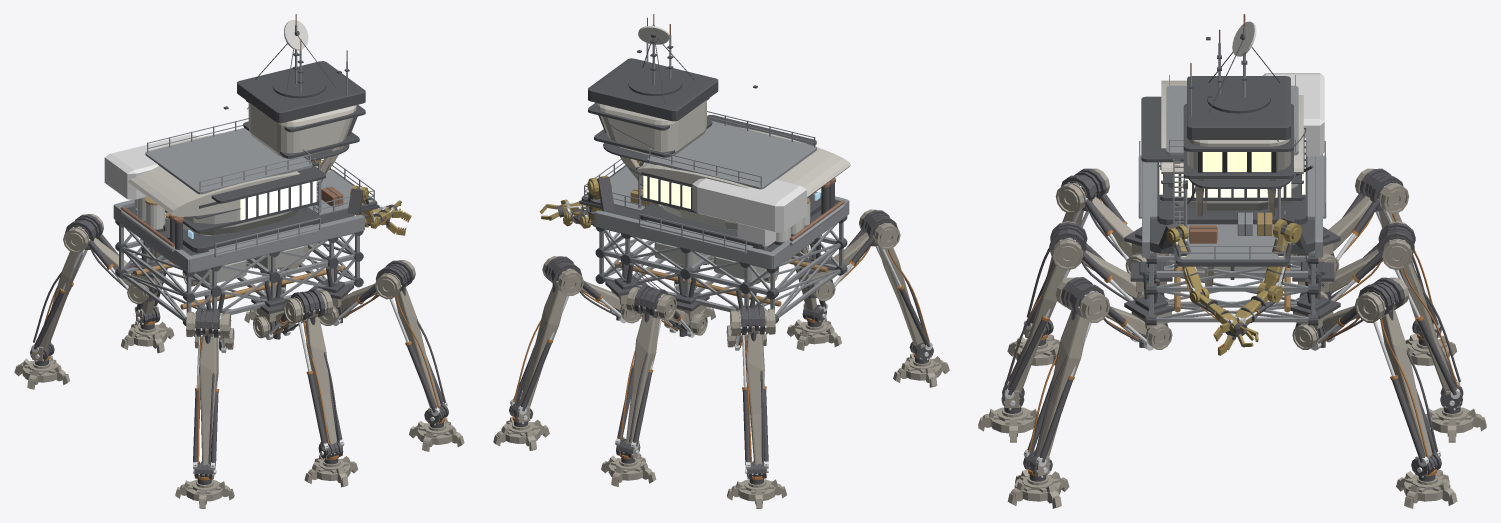
File: walker_station.fbx
3 views of the same model, side by side, from view 1: azimuth 30°, elevation 25°; view 2: azimuth 150°, elevation 25°; view 3: azimuth 270°, elevation 25° (orthographic). The views are drawn at different scales.
Parts seen in each view (by area): view 1: L1_Terrace, L2_Skirt, L2_Body.002, L1_Roof, CH_Fascia_S, Cube.001, L1_Skirt, LEG3_Shin_N2.001, LEG3_Shin_N1, L1_Glass_L, L1_RoofLip, LEG3_Shin_N3 (+24 smaller); view 2: L1_Terrace, Cube.001, L2_Skirt, L2_Body.002, CH_Fascia_N, L1_Roof, LEG3_Shin_P2, LEG3_Shin_P1, L1_Skirt, LEG3_Shin_P3, POD_Base, CH_Fascia_W (+24 smaller); view 3: L2_Skirt, FWD_Grate, L1_Skirt, LEG3_Shin_N3, LEG3_Shin_P3, Cube.001, L1_RoofLip, L1_Terrace, POD_Base, LEG3_Foot_N3, LEG3_Foot_P3, LEG3_Shin_N2.001 (+43 smaller).
Boxes of the visible parts, left/top/right/bottom form: L1_Terrace: left=145, top=128, right=312, bottom=194; L2_Skirt: left=237, top=61, right=365, bottom=123; L2_Body.002: left=248, top=102, right=356, bottom=158; L1_Roof: left=128, top=132, right=321, bottom=216; CH_Fascia_S: left=189, top=215, right=364, bottom=272; Cube.001: left=104, top=134, right=197, bottom=199; L1_Skirt: left=163, top=207, right=320, bottom=252; LEG3_Shin_N2.001: left=305, top=316, right=337, bottom=444; LEG3_Shin_N1: left=199, top=334, right=218, bottom=465; L1_Glass_L: left=240, top=181, right=316, bottom=220; L1_RoofLip: left=211, top=164, right=325, bottom=203; LEG3_Shin_N3: left=394, top=287, right=440, bottom=407; L1_Terrace: left=647, top=120, right=816, bottom=189; Cube.001: left=692, top=178, right=806, bottom=232; L2_Skirt: left=588, top=58, right=718, bottom=121; L2_Body.002: left=597, top=100, right=706, bottom=157; CH_Fascia_N: left=594, top=210, right=772, bottom=269; L1_Roof: left=636, top=127, right=850, bottom=197; LEG3_Shin_P2: left=626, top=314, right=659, bottom=443; LEG3_Shin_P1: left=746, top=331, right=764, bottom=464; L1_Skirt: left=639, top=195, right=821, bottom=249; LEG3_Shin_P3: left=518, top=287, right=566, bottom=406; POD_Base: left=628, top=71, right=682, bottom=95; CH_Fascia_W: left=770, top=200, right=849, bottom=268; L2_Skirt: left=1187, top=76, right=1290, bottom=139; FWD_Grate: left=1180, top=224, right=1284, bottom=260; L1_Skirt: left=1157, top=156, right=1307, bottom=224; LEG3_Shin_N3: left=1035, top=310, right=1089, bottom=457; LEG3_Shin_P3: left=1380, top=310, right=1432, bottom=457; Cube.001: left=1262, top=73, right=1324, bottom=156; L1_RoofLip: left=1141, top=96, right=1183, bottom=162; L1_Terrace: left=1166, top=85, right=1298, bottom=155; POD_Base: left=1207, top=84, right=1270, bottom=113; LEG3_Foot_N3: left=1007, top=469, right=1069, bottom=508; LEG3_Foot_P3: left=1396, top=469, right=1457, bottom=508; LEG3_Shin_N2.001: left=1014, top=262, right=1066, bottom=392.
Size of the model in its own units: 2643 by 3087 by 3149.
